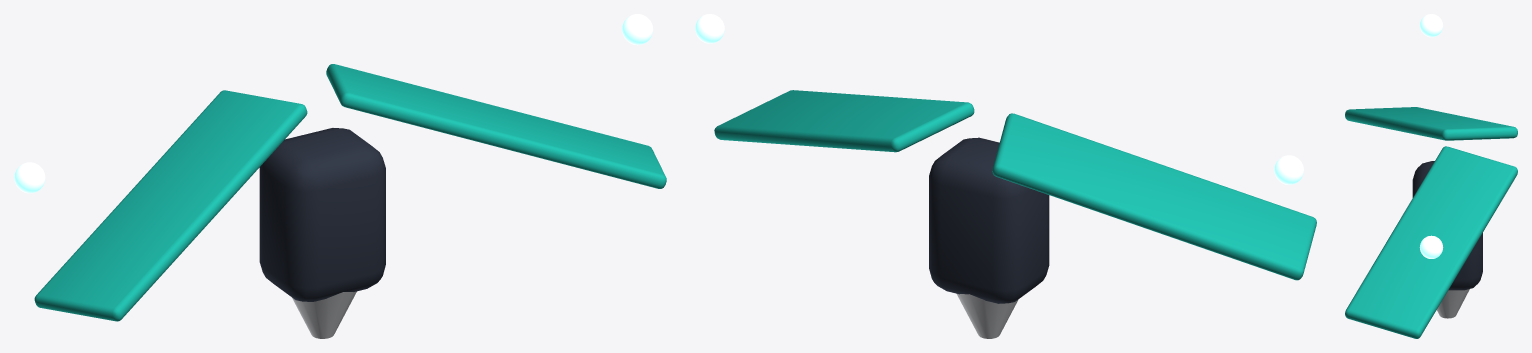
Rendered from pack_wings.glb.
3 renders of one model, left to right at view 1: azimuth 30°, elevation 25°; view 2: azimuth 150°, elevation 25°; view 3: azimuth 270°, elevation 25°, orthographic. The views are drawn at different scales.
Parts seen in each view (by area): view 1: Wing-1, Pod, Wing1, Nozzle, WingTip-1, WingTip1; view 2: Wing-1, Pod, Wing1, Nozzle, WingTip1, WingTip-1; view 3: Wing1, Wing-1, Pod, Nozzle, WingTip-1, WingTip1.
Part boxes in pixels (x1,y1,x2,y2): Wing-1: (34, 90, 307, 321); Pod: (259, 128, 385, 301); Wing1: (326, 64, 666, 188); Nozzle: (292, 291, 356, 338); WingTip-1: (14, 162, 45, 193); WingTip1: (622, 14, 653, 45); Wing-1: (992, 113, 1316, 280); Pod: (929, 137, 1049, 303); Wing1: (714, 90, 974, 152); Nozzle: (957, 294, 1018, 338); WingTip1: (695, 14, 724, 43); WingTip-1: (1274, 155, 1303, 184); Wing1: (1345, 146, 1517, 338); Wing-1: (1345, 107, 1517, 140); Pod: (1412, 161, 1482, 290); Nozzle: (1437, 289, 1469, 318); WingTip-1: (1419, 14, 1443, 37); WingTip1: (1419, 235, 1443, 258).
Bounding box in the file's own units: 2.34 × 0.89 × 0.738.
